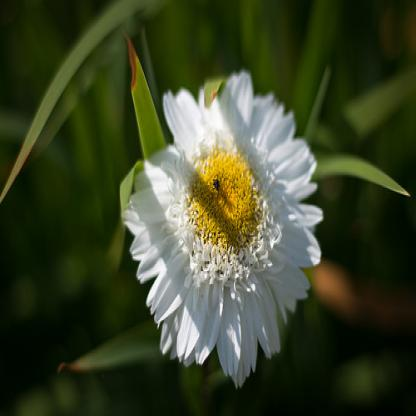ASTER: (85, 26, 354, 393)
